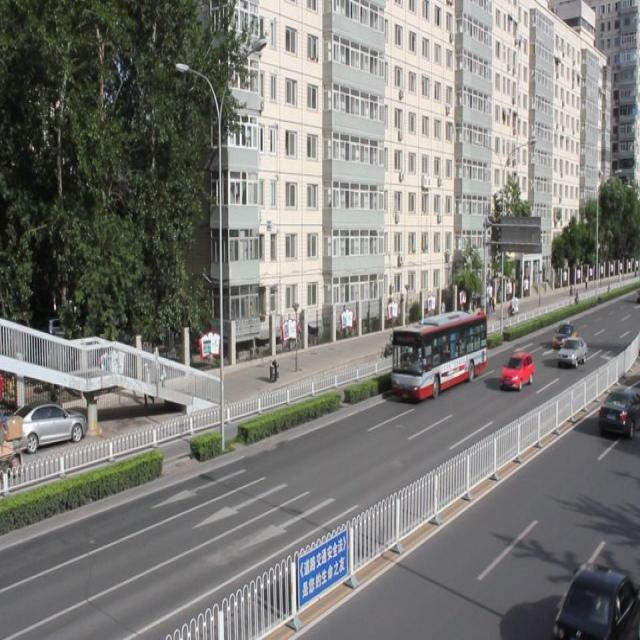car: (551, 564, 640, 640), (596, 386, 640, 438), (499, 349, 533, 391), (556, 335, 584, 367)
van: (390, 308, 486, 401)
